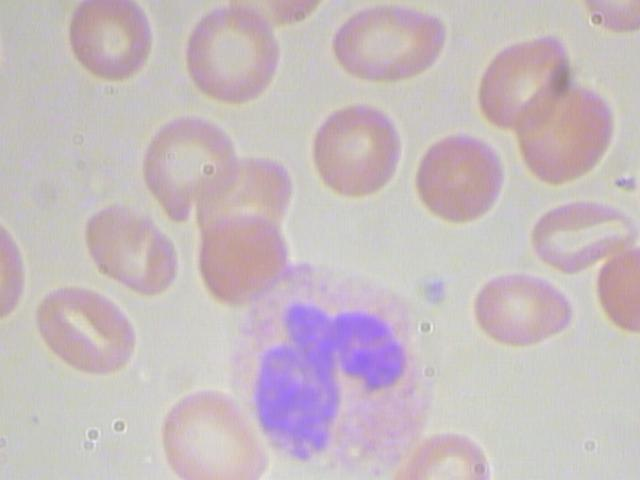RBC: (133, 109, 245, 227), (158, 374, 272, 480), (507, 79, 621, 185), (469, 29, 583, 135), (180, 3, 286, 107), (194, 204, 295, 310), (304, 97, 405, 202), (408, 128, 509, 233), (329, 1, 455, 85), (28, 286, 134, 382), (468, 266, 582, 349), (526, 189, 640, 272), (82, 201, 181, 296), (60, 1, 159, 85)
